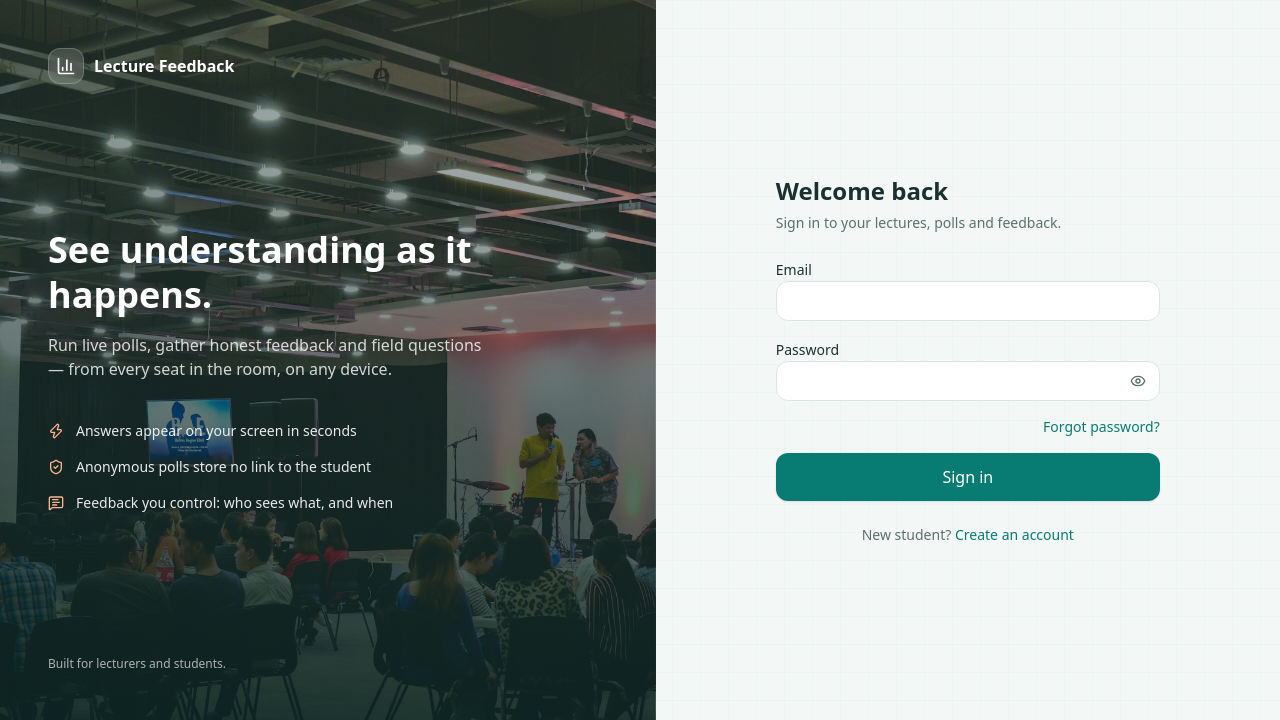
login page › shows one generic message on bad credentials and keeps focusable controls
Type "a@b.test" into the field labelled "Email" at (968, 301), box [776,281,1160,321]
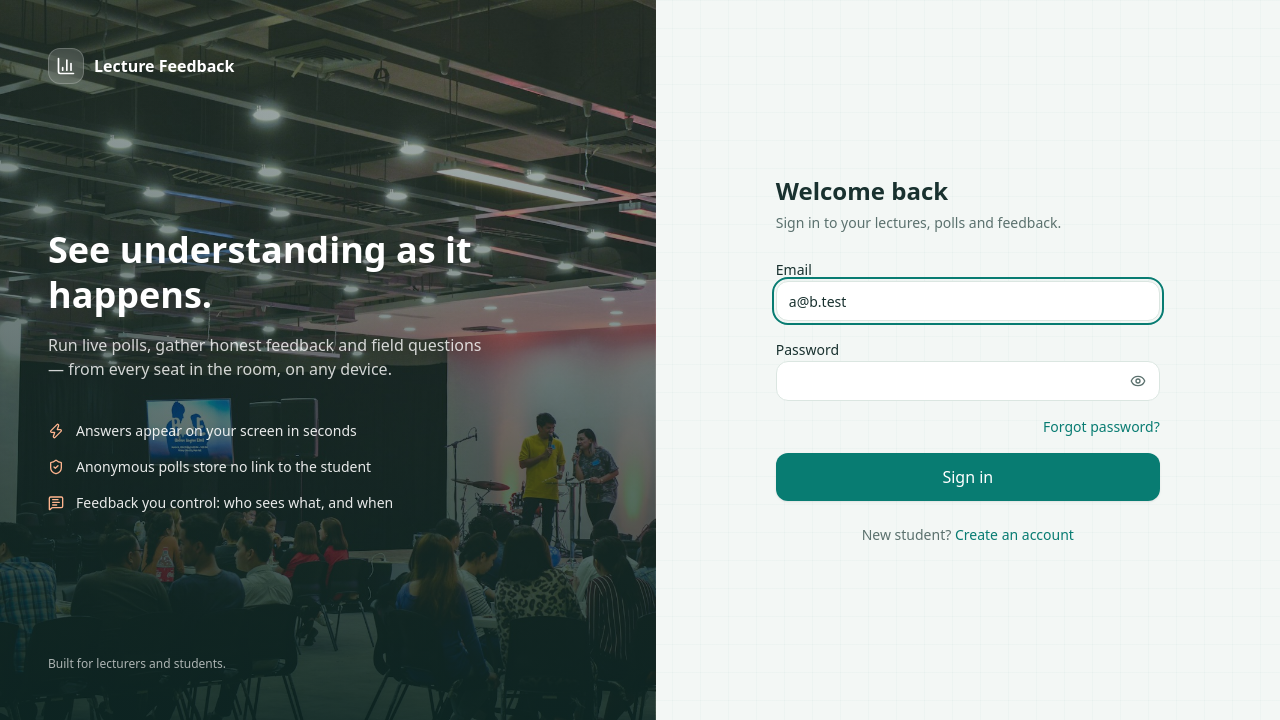
Type "wrong-password" into the password field labelled "Password" at (968, 381), box [776,361,1160,401]
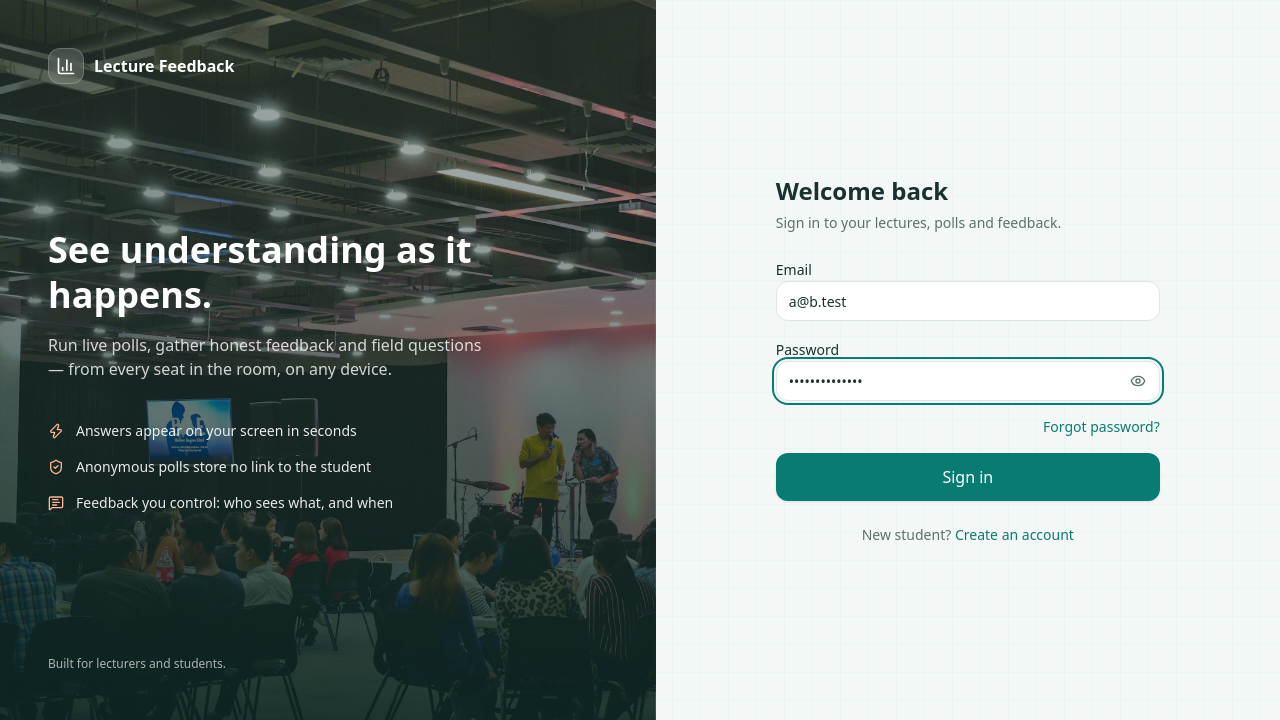
Click the button "Sign in" at (968, 477), box [776,453,1160,501]
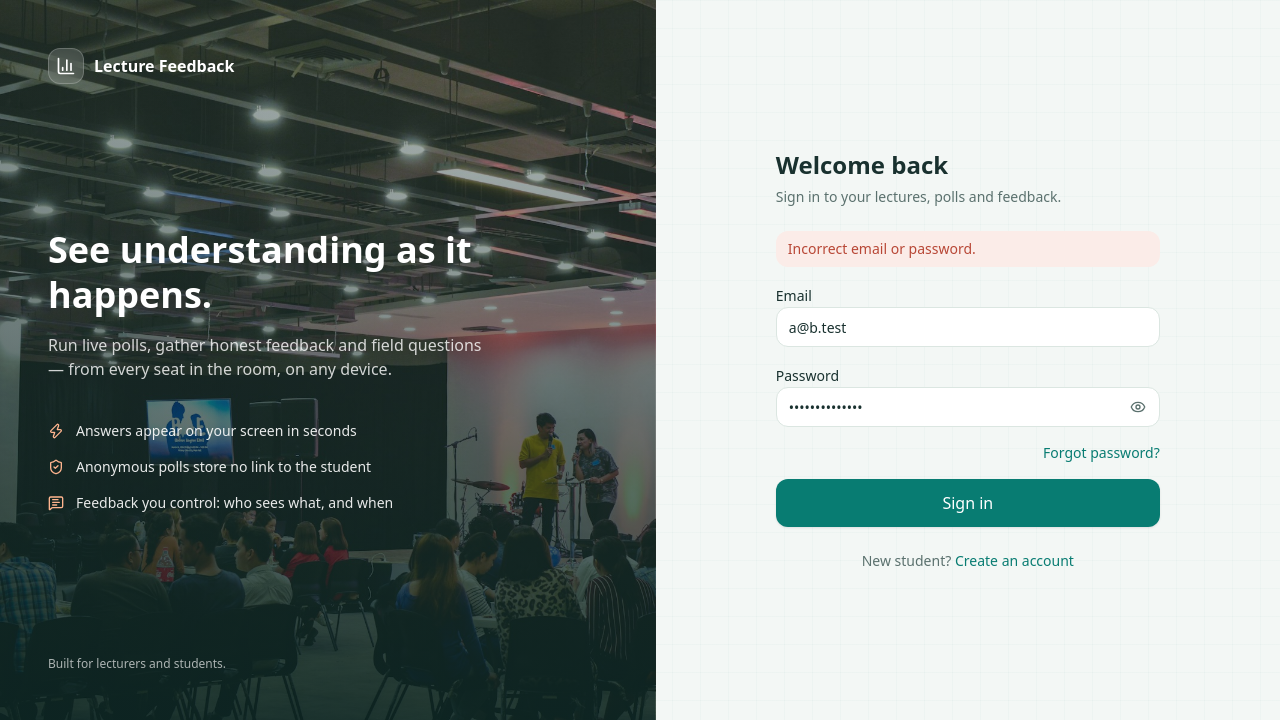
Expected: the button "Sign in" is enabled, [776,479,1160,527]
Expected: the message reads "Incorrect email or password.", [788,239,976,258]
